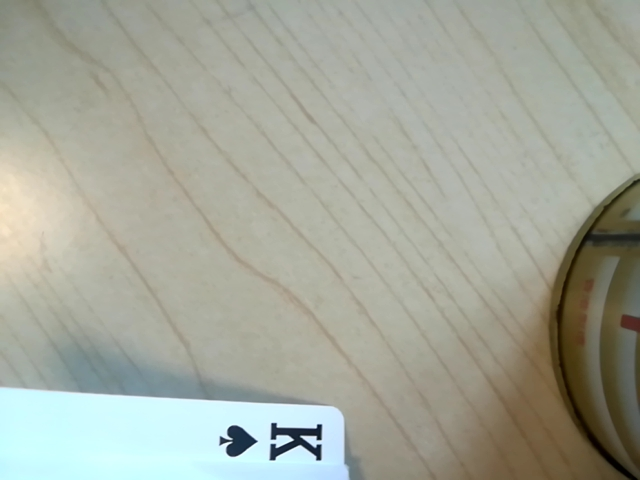ht k: (205, 406, 348, 475)
